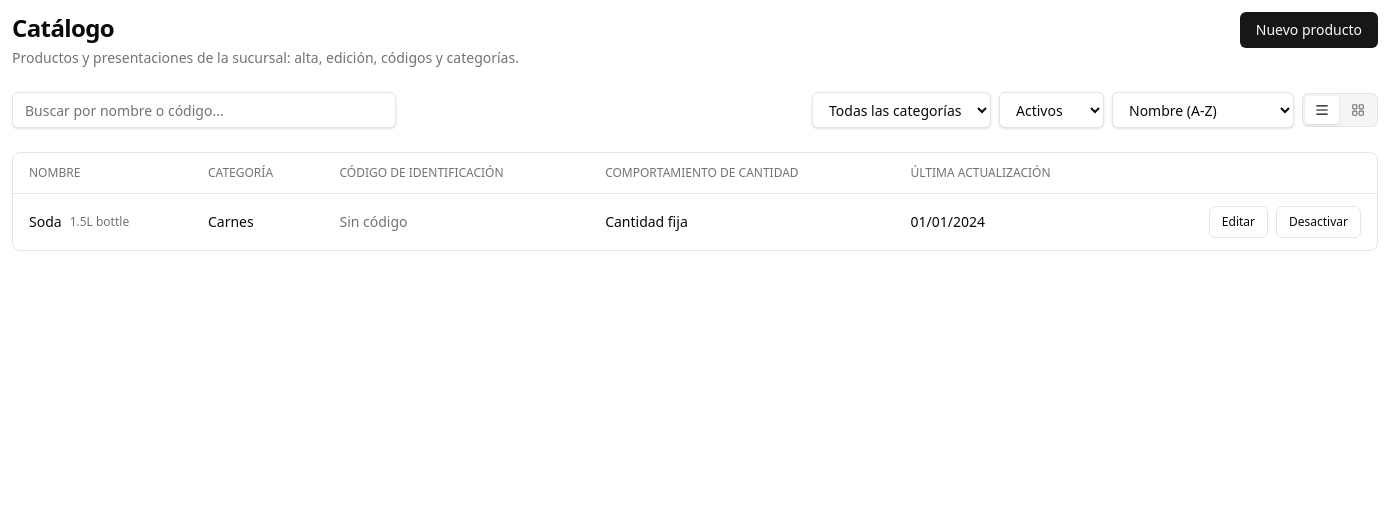
Test: CatalogScreen › lets an admin set a Presentation's identification code via PUT
The width and height of the screenshot is (1390, 525).
Expected: the text "1.5L bottle" is shown, [70, 214, 129, 230]
Click the button "Editar".
click(1238, 222)  # box [1209, 206, 1268, 238]
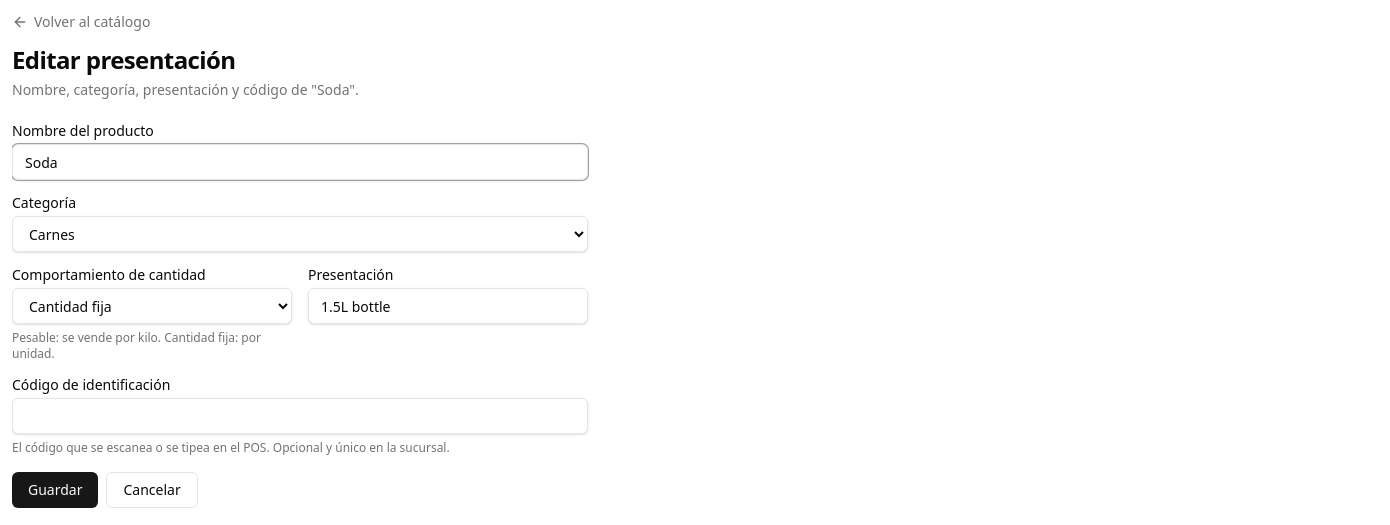
Type "7791234567890" into the field labelled "Código de identificación".
click(300, 416); type("7791234567890")  # box [12, 398, 588, 434]
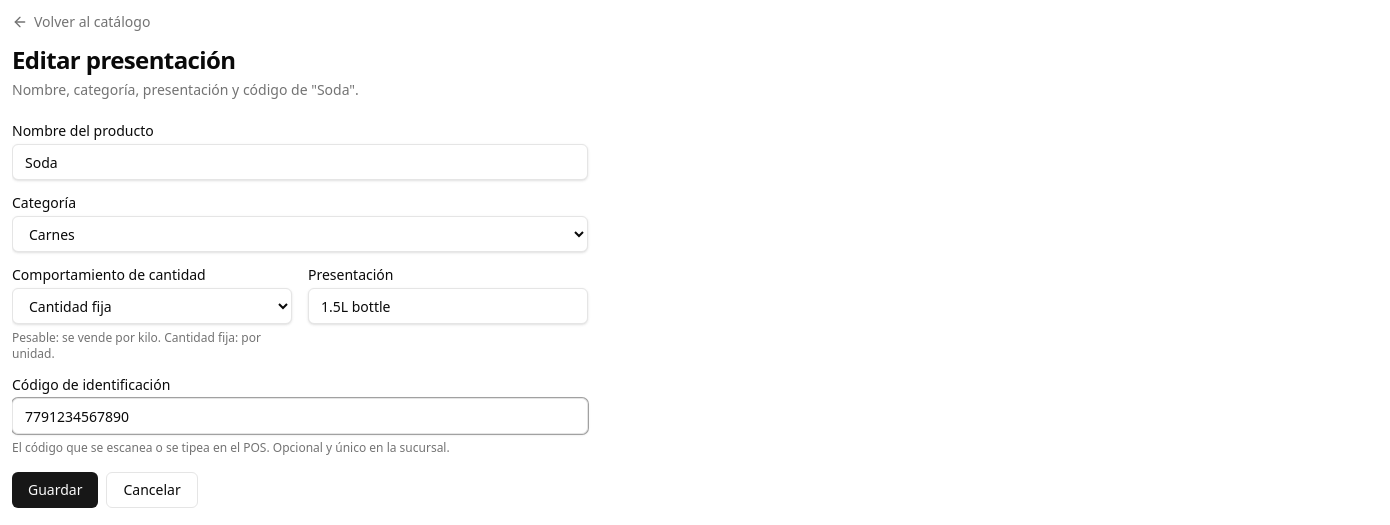
Click the button "Guardar".
click(55, 490)  # box [12, 472, 98, 508]
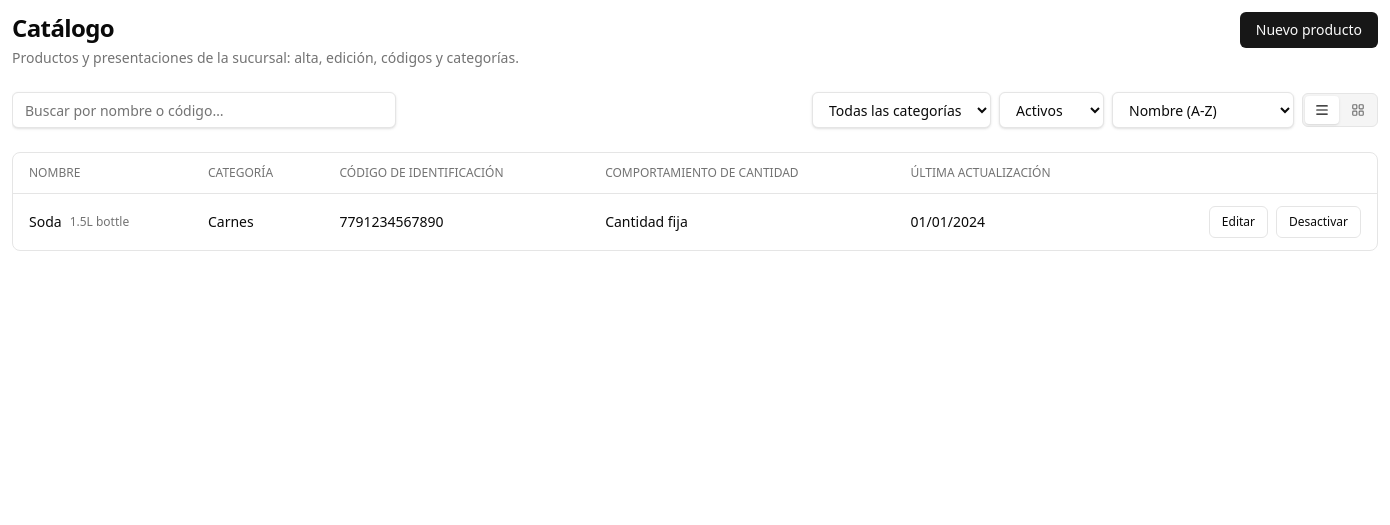
Expected: the text "Sin código" is not shown
Expected: the text "7791234567890" is shown, [324, 194, 589, 250]
